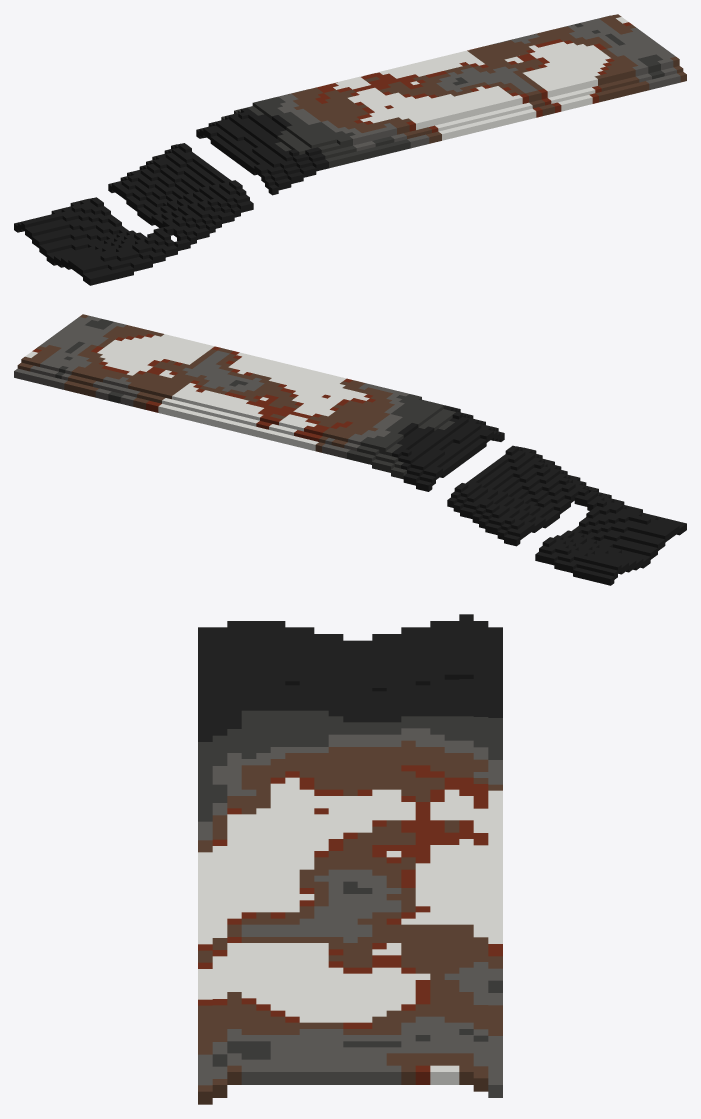
File: burnt_out_bus_roof.glb
3 renders of one model, top to bottom at view 1: azimuth 30°, elevation 25°; view 2: azimuth 150°, elevation 25°; view 3: azimuth 270°, elevation 25°, orthographic. The views are drawn at different scales.
Visible parts, largest first — view 1: body:compound; view 2: body:compound; view 3: body:compound.
Part boxes in pixels (<box>): body:compound: <box>14,14,686,285</box>; body:compound: <box>14,314,686,585</box>; body:compound: <box>198,614,502,1104</box>.
Bounding box in the file's own units: 11.88 × 1.56 × 2.62.
